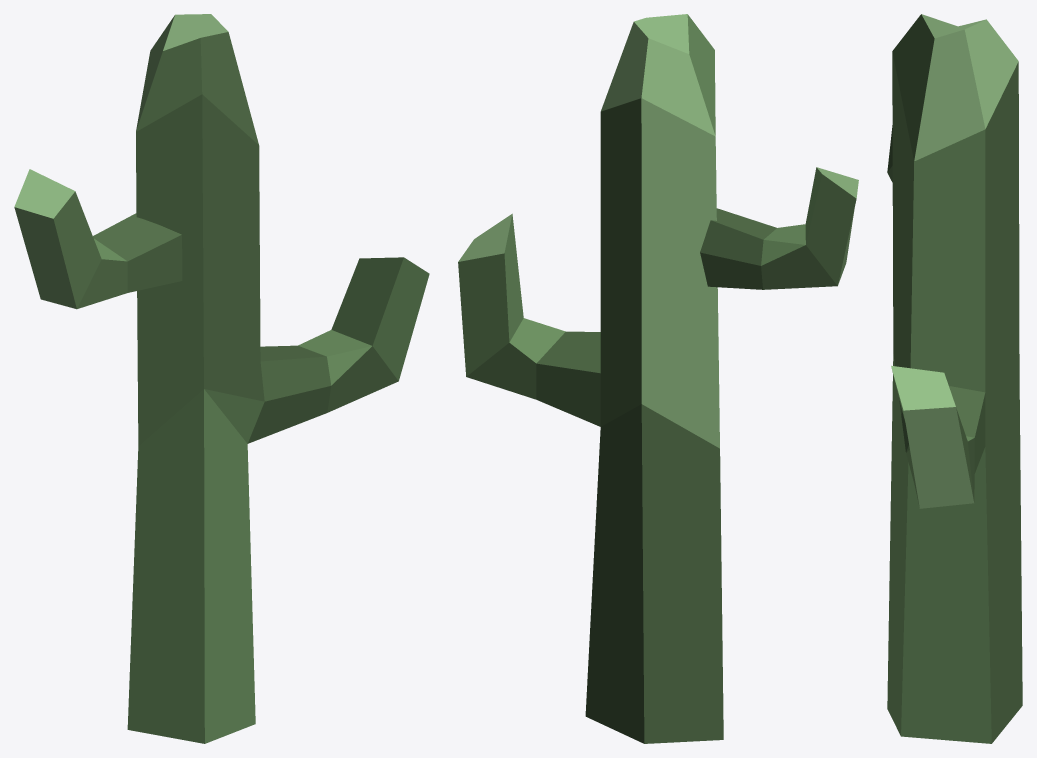
Rendered from Cactus2.glb.
3 views of the same model, side by side, from view 1: azimuth 30°, elevation 25°; view 2: azimuth 150°, elevation 25°; view 3: azimuth 270°, elevation 25° (orthographic).
Parts seen in each view (by area): view 1: Cactus22; view 2: Cactus22; view 3: Cactus22.
Boxes of the visible parts, <box> form: Cactus22: <box>14,14,429,743</box>; Cactus22: <box>458,14,858,743</box>; Cactus22: <box>887,14,1022,743</box>.
Size of the model in its own units: 1.09 by 1.81 by 0.3167.
Materials: 1 (1 with a texture image).
